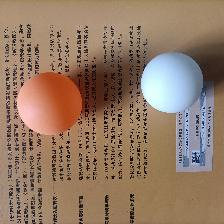WhiteBall: (139, 52, 203, 113)
YellowBall: (15, 71, 83, 135)
